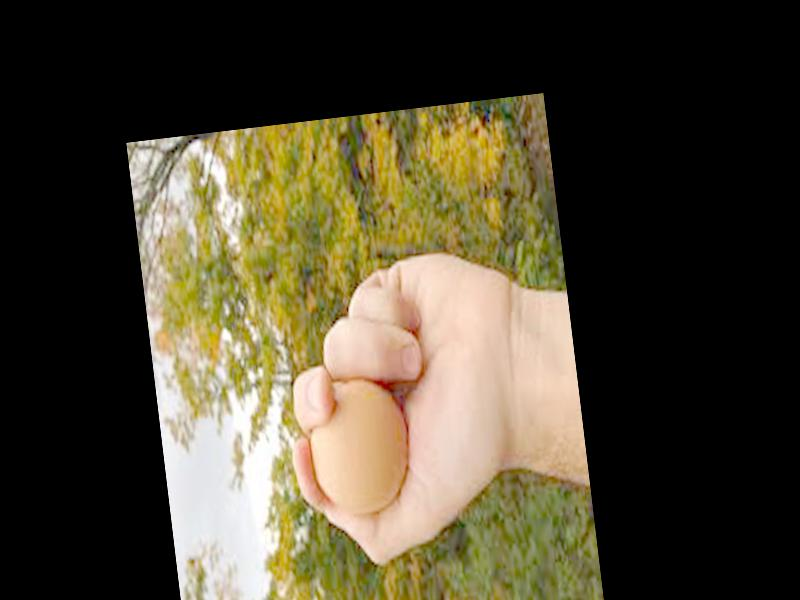Eggs: (303, 368, 414, 517)
